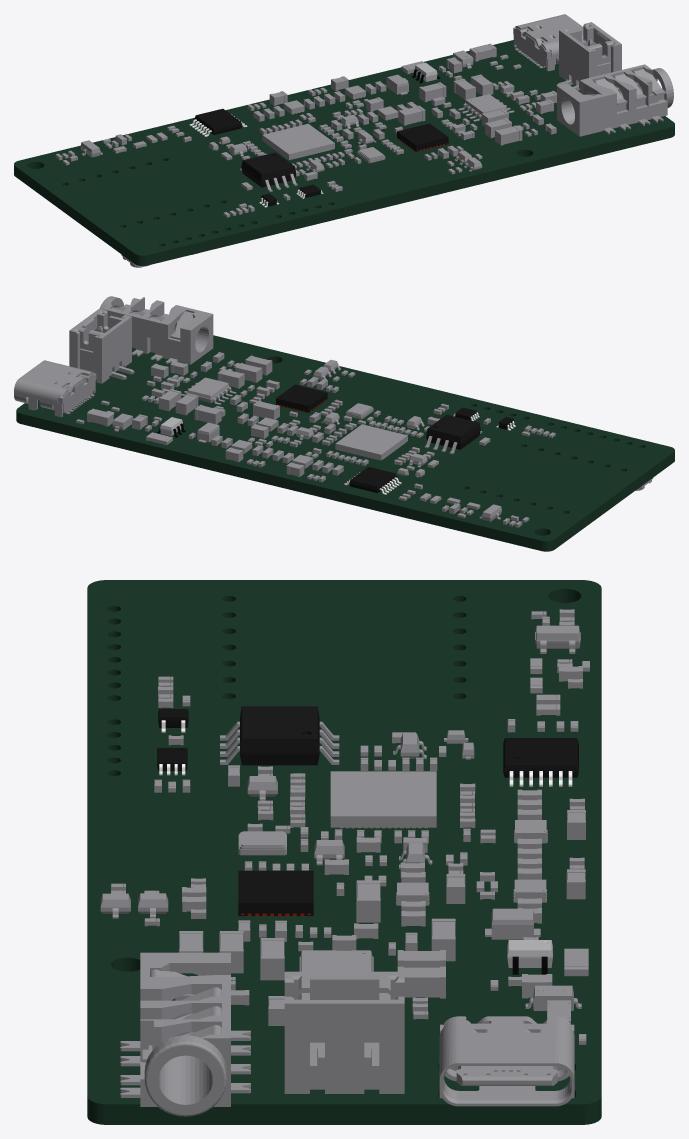
File: seeed-respeaker-lite.glb
3 views of the same model, one above another, from view 1: azimuth 30°, elevation 25°; view 2: azimuth 150°, elevation 25°; view 3: azimuth 270°, elevation 25° (orthographic). The views are drawn at different scales.
Visible parts, largest first — view 1: seeed-respeaker-lite; view 2: seeed-respeaker-lite; view 3: seeed-respeaker-lite.
Part boxes in pixels (x1,y1,x2,y2): seeed-respeaker-lite: (14,14,674,267); seeed-respeaker-lite: (14,296,674,551); seeed-respeaker-lite: (87,580,601,1124).
Bounding box in the file's own units: 83.6 × 10.93 × 34.01.
